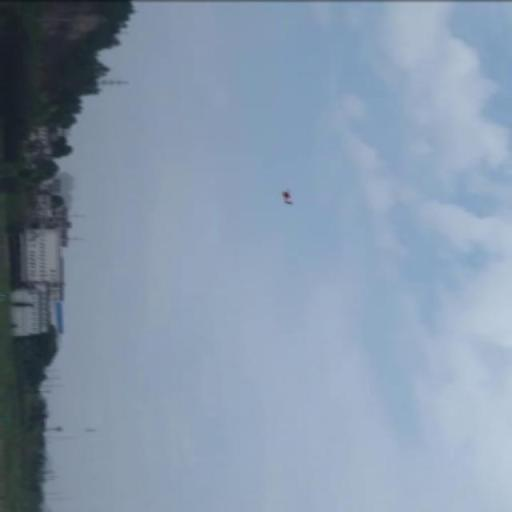uav: (278, 188, 297, 204)
